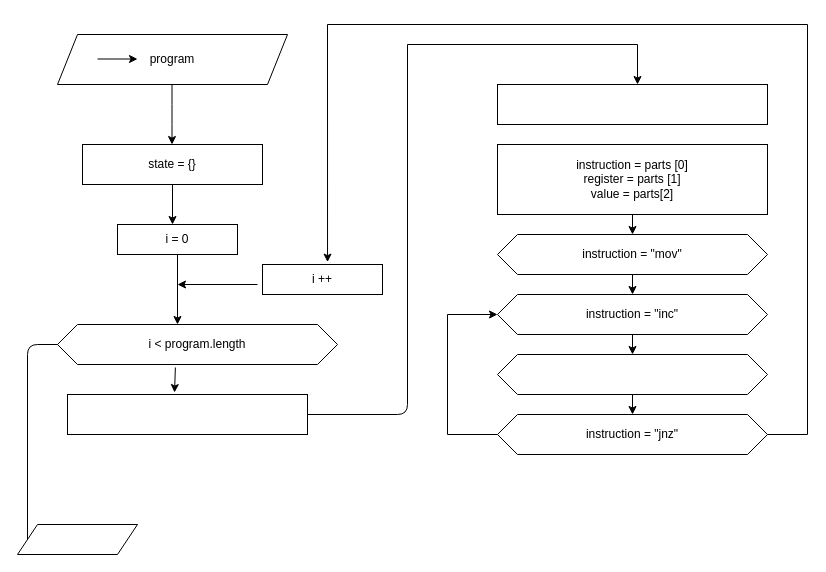
The diagram is 826 pixels wide and 572 high, and some of its shapes have lost their labels. The shapes that lost their labels are listed below. From the top down, each one's box as (x1, y1, x2, y2) in pixels, then its label:
(496, 84, 768, 124): parts = split(... "")
(496, 354, 768, 394): instruction = "dec"
(66, 394, 308, 434): instructionString = program[i]
(16, 524, 138, 554): state -->
